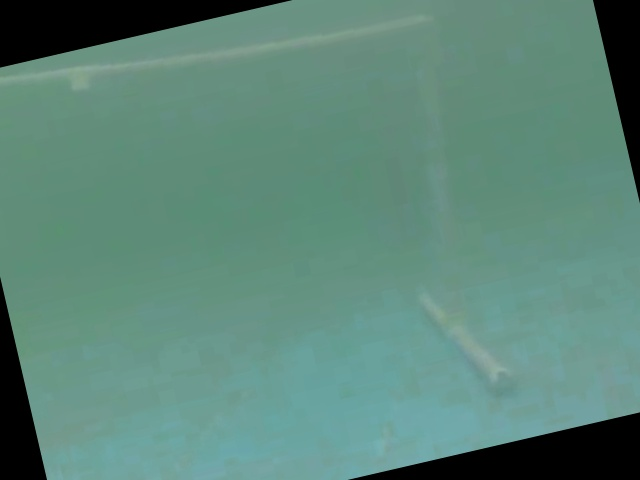gate: (5, 10, 560, 415)
